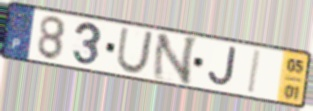3: (70, 21, 105, 68)
8: (36, 14, 68, 62)
I: (246, 48, 264, 97)
J: (206, 45, 238, 89)
N: (149, 32, 200, 86)
U: (114, 26, 156, 76)
